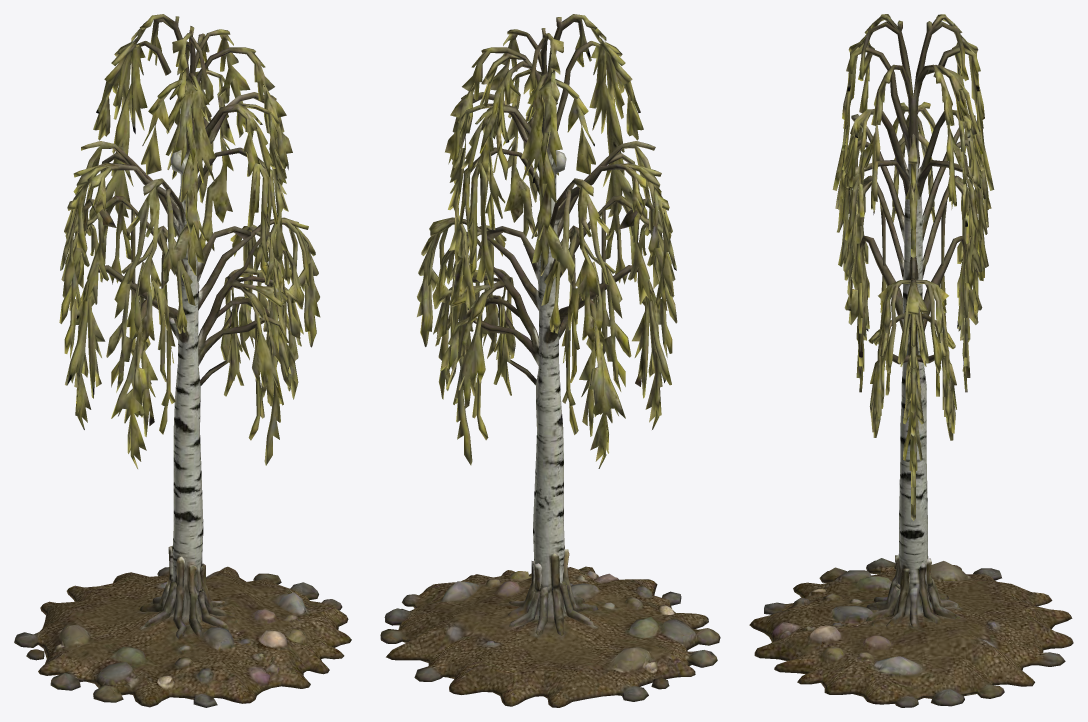
The model's file is tr_birch_a2.glb.
3 renders of one model, left to right at view 1: azimuth 30°, elevation 25°; view 2: azimuth 150°, elevation 25°; view 3: azimuth 270°, elevation 25°, orthographic.
Visible parts, largest first — view 1: tr_birch_a2; view 2: tr_birch_a2; view 3: tr_birch_a2.
Part boxes in pixels (<box>): tr_birch_a2: <box>14,14,351,707</box>; tr_birch_a2: <box>380,14,720,707</box>; tr_birch_a2: <box>749,14,1073,707</box>.
Bounding box in the file's own units: 6.08 × 12 × 5.75.
Materials: 1 (1 with a texture image).
